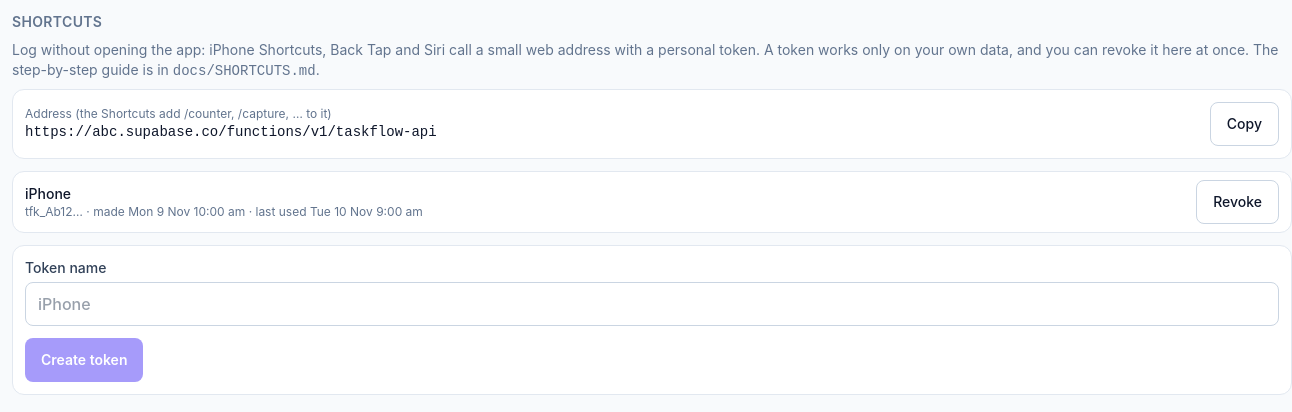
Test: Settings → Shortcuts › revokes after a confirm, and a revoked token is marked
This screenshot has width=1292, height=412.
Click the button with aria-label "Revoke iPhone" at (1238, 202), box [1196, 180, 1279, 224]
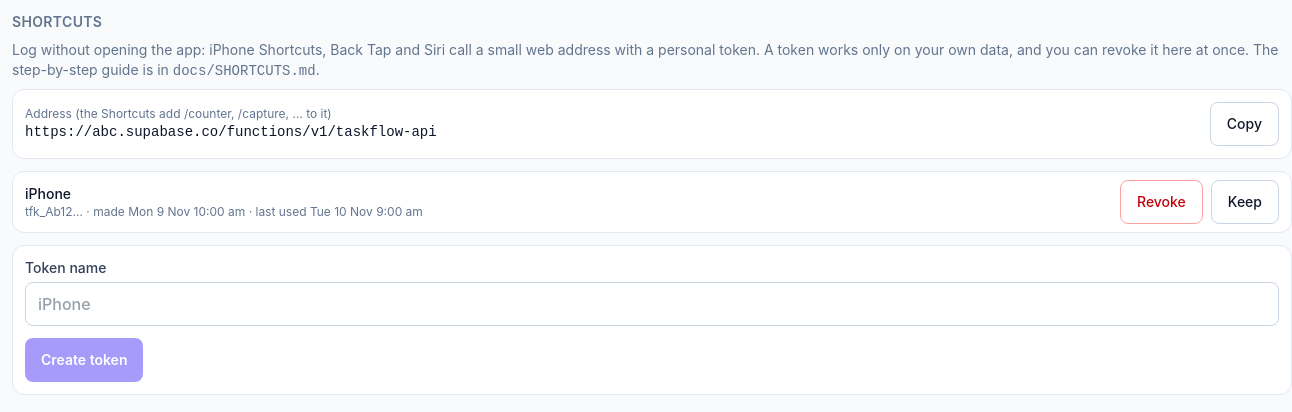
Click the button with aria-label "Confirm revoke iPhone" at (1161, 202), box [1120, 180, 1203, 224]
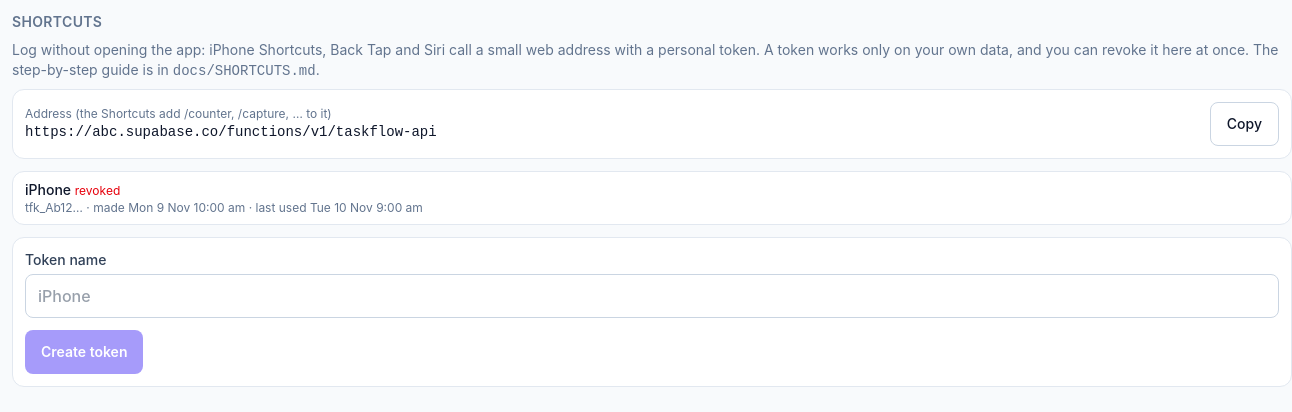
Now the text "revoked" is shown, box [75, 183, 120, 198]
